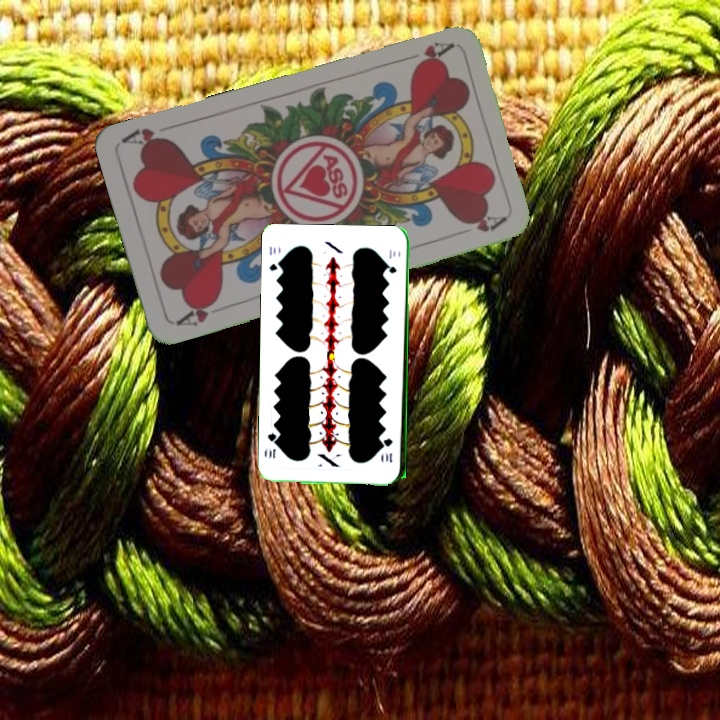G10: (265, 242, 284, 273), (382, 434, 395, 465)
HA: (397, 38, 455, 73), (172, 294, 222, 329)
